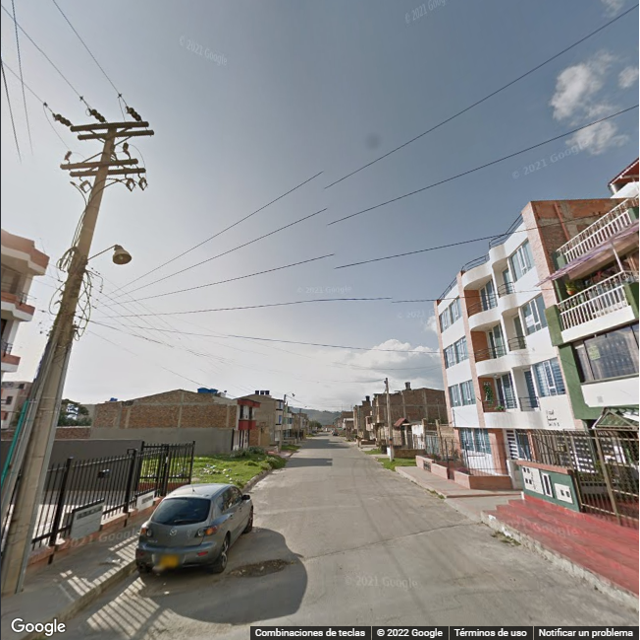D10: (385, 604, 468, 617), (456, 584, 552, 594)
D40: (223, 554, 293, 581)
